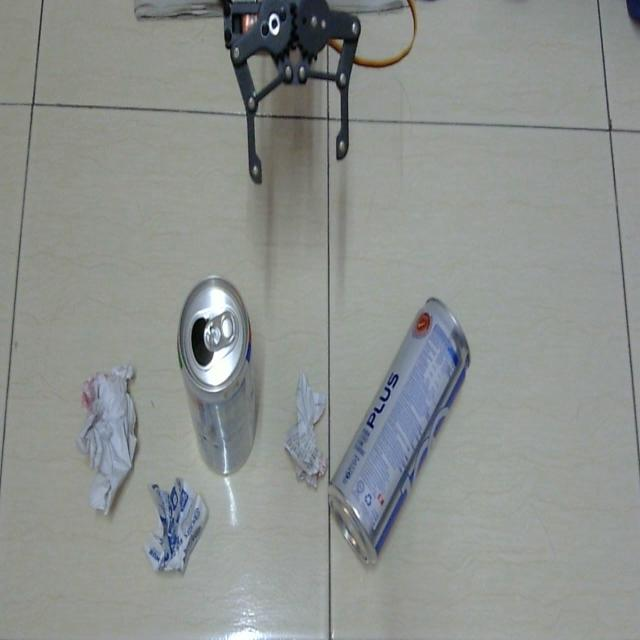Metal-laydown_45right-rotation: (329, 287, 472, 563)
Metal-stand-rotation: (173, 266, 267, 474)
Paperrotation: (68, 357, 149, 528), (279, 367, 331, 508), (144, 476, 210, 586)
